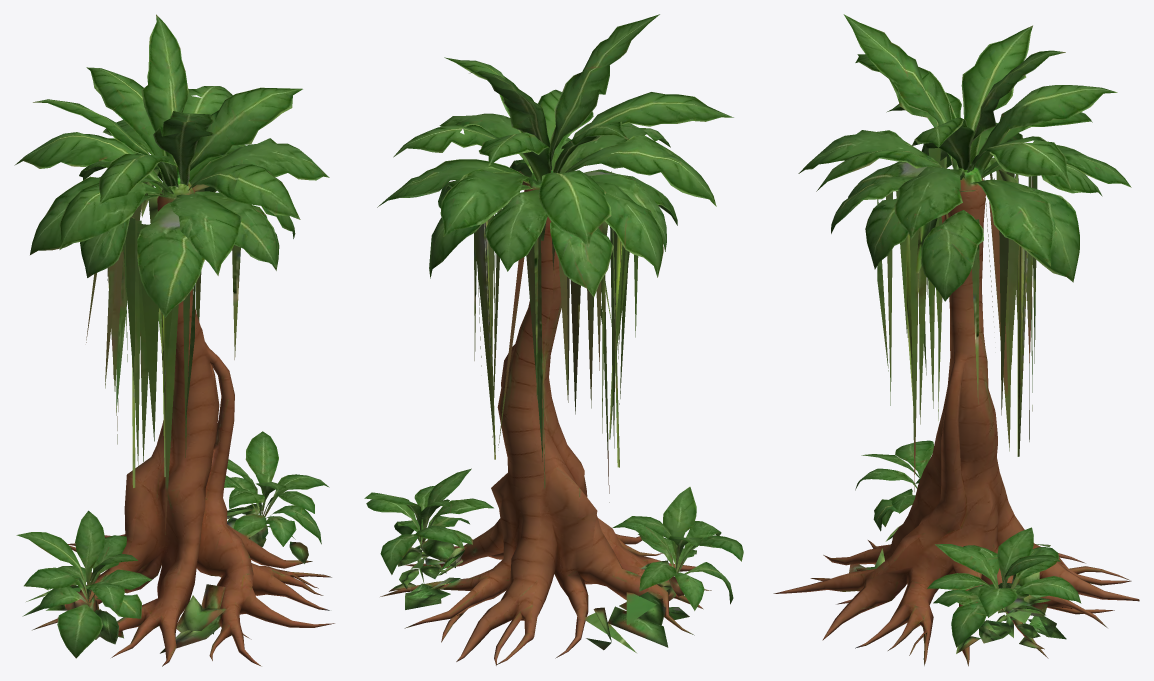
Rendered from tree_jungle.glb.
3 views of the same model, side by side, from view 1: azimuth 30°, elevation 25°; view 2: azimuth 150°, elevation 25°; view 3: azimuth 270°, elevation 25° (orthographic). The views are drawn at different scales.
Size of the model in its own units: 0.6143 by 0.9468 by 0.5625.
1 material, 1 textured.
